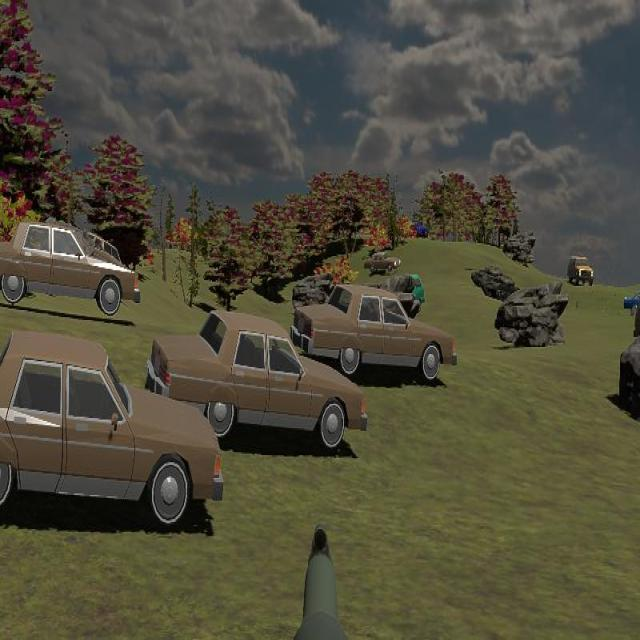Tank: (464, 262, 519, 301)
car: (1, 329, 225, 528), (145, 312, 368, 453), (292, 283, 459, 385), (1, 221, 142, 316), (567, 254, 594, 287), (364, 250, 401, 273), (623, 291, 640, 314)
